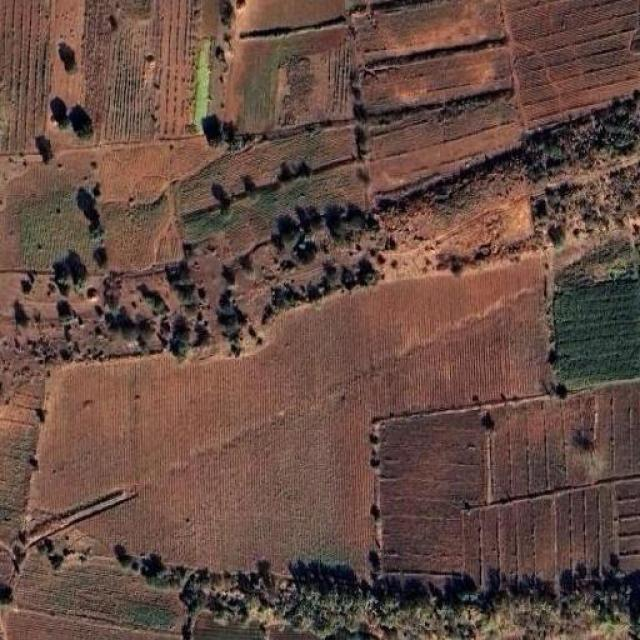land-Sx1C: (33, 255, 546, 570), (378, 409, 494, 579), (488, 381, 640, 502), (502, 0, 640, 129), (464, 484, 619, 591), (85, 0, 199, 141), (178, 126, 354, 217), (369, 91, 519, 192), (0, 152, 108, 288), (224, 25, 351, 133), (14, 556, 182, 633), (554, 276, 640, 389), (364, 49, 509, 114), (355, 0, 502, 58), (99, 139, 223, 203), (0, 0, 49, 153), (0, 381, 44, 543), (101, 191, 182, 269), (5, 609, 140, 640), (236, 0, 345, 33), (615, 478, 640, 571), (192, 611, 265, 640)
